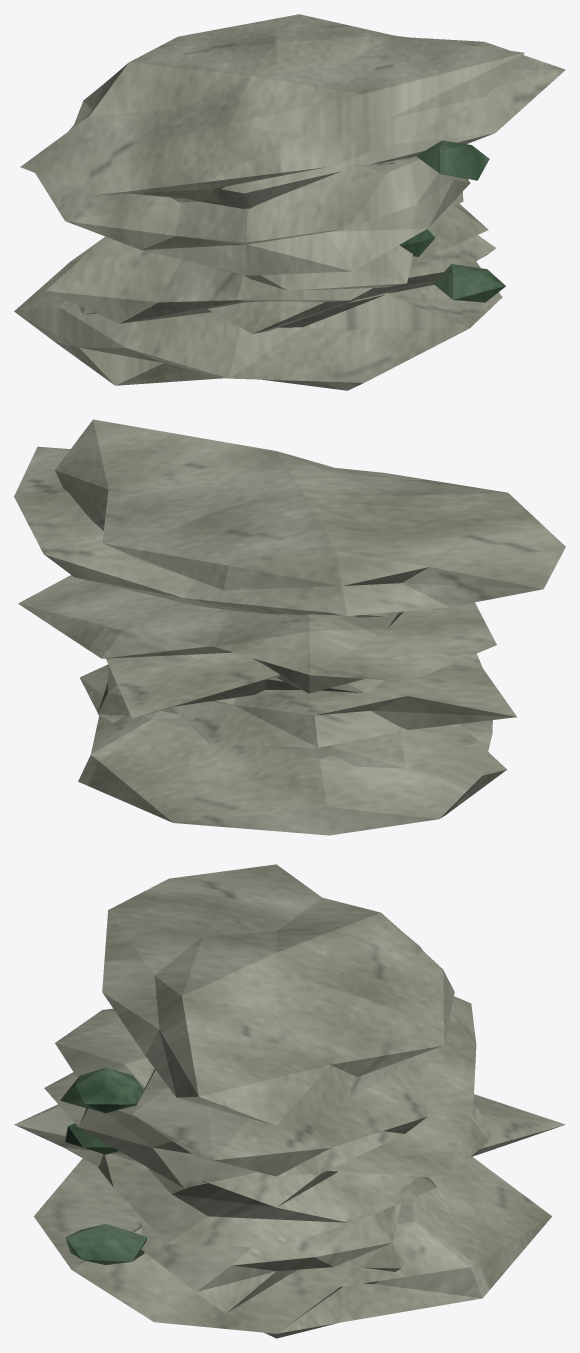
File: 0029_layered_rock_04.glb
3 renders of one model, top to bottom at view 1: azimuth 30°, elevation 25°; view 2: azimuth 150°, elevation 25°; view 3: azimuth 270°, elevation 25°, orthographic. The views are drawn at different scales.
Parts seen in each view (by area): view 1: stone_light, moss; view 2: stone_light; view 3: stone_light, moss.
Boxes of the visible parts, box(x1,y1,x2,y2) form: stone_light: box(14, 14, 565, 390); moss: box(399, 140, 505, 302); stone_light: box(14, 419, 565, 835); stone_light: box(14, 864, 565, 1338); moss: box(60, 1068, 147, 1265).
Bounding box in the file's own units: 2.5 × 1.24 × 2.04.
Materials: 2 (2 with a texture image).
